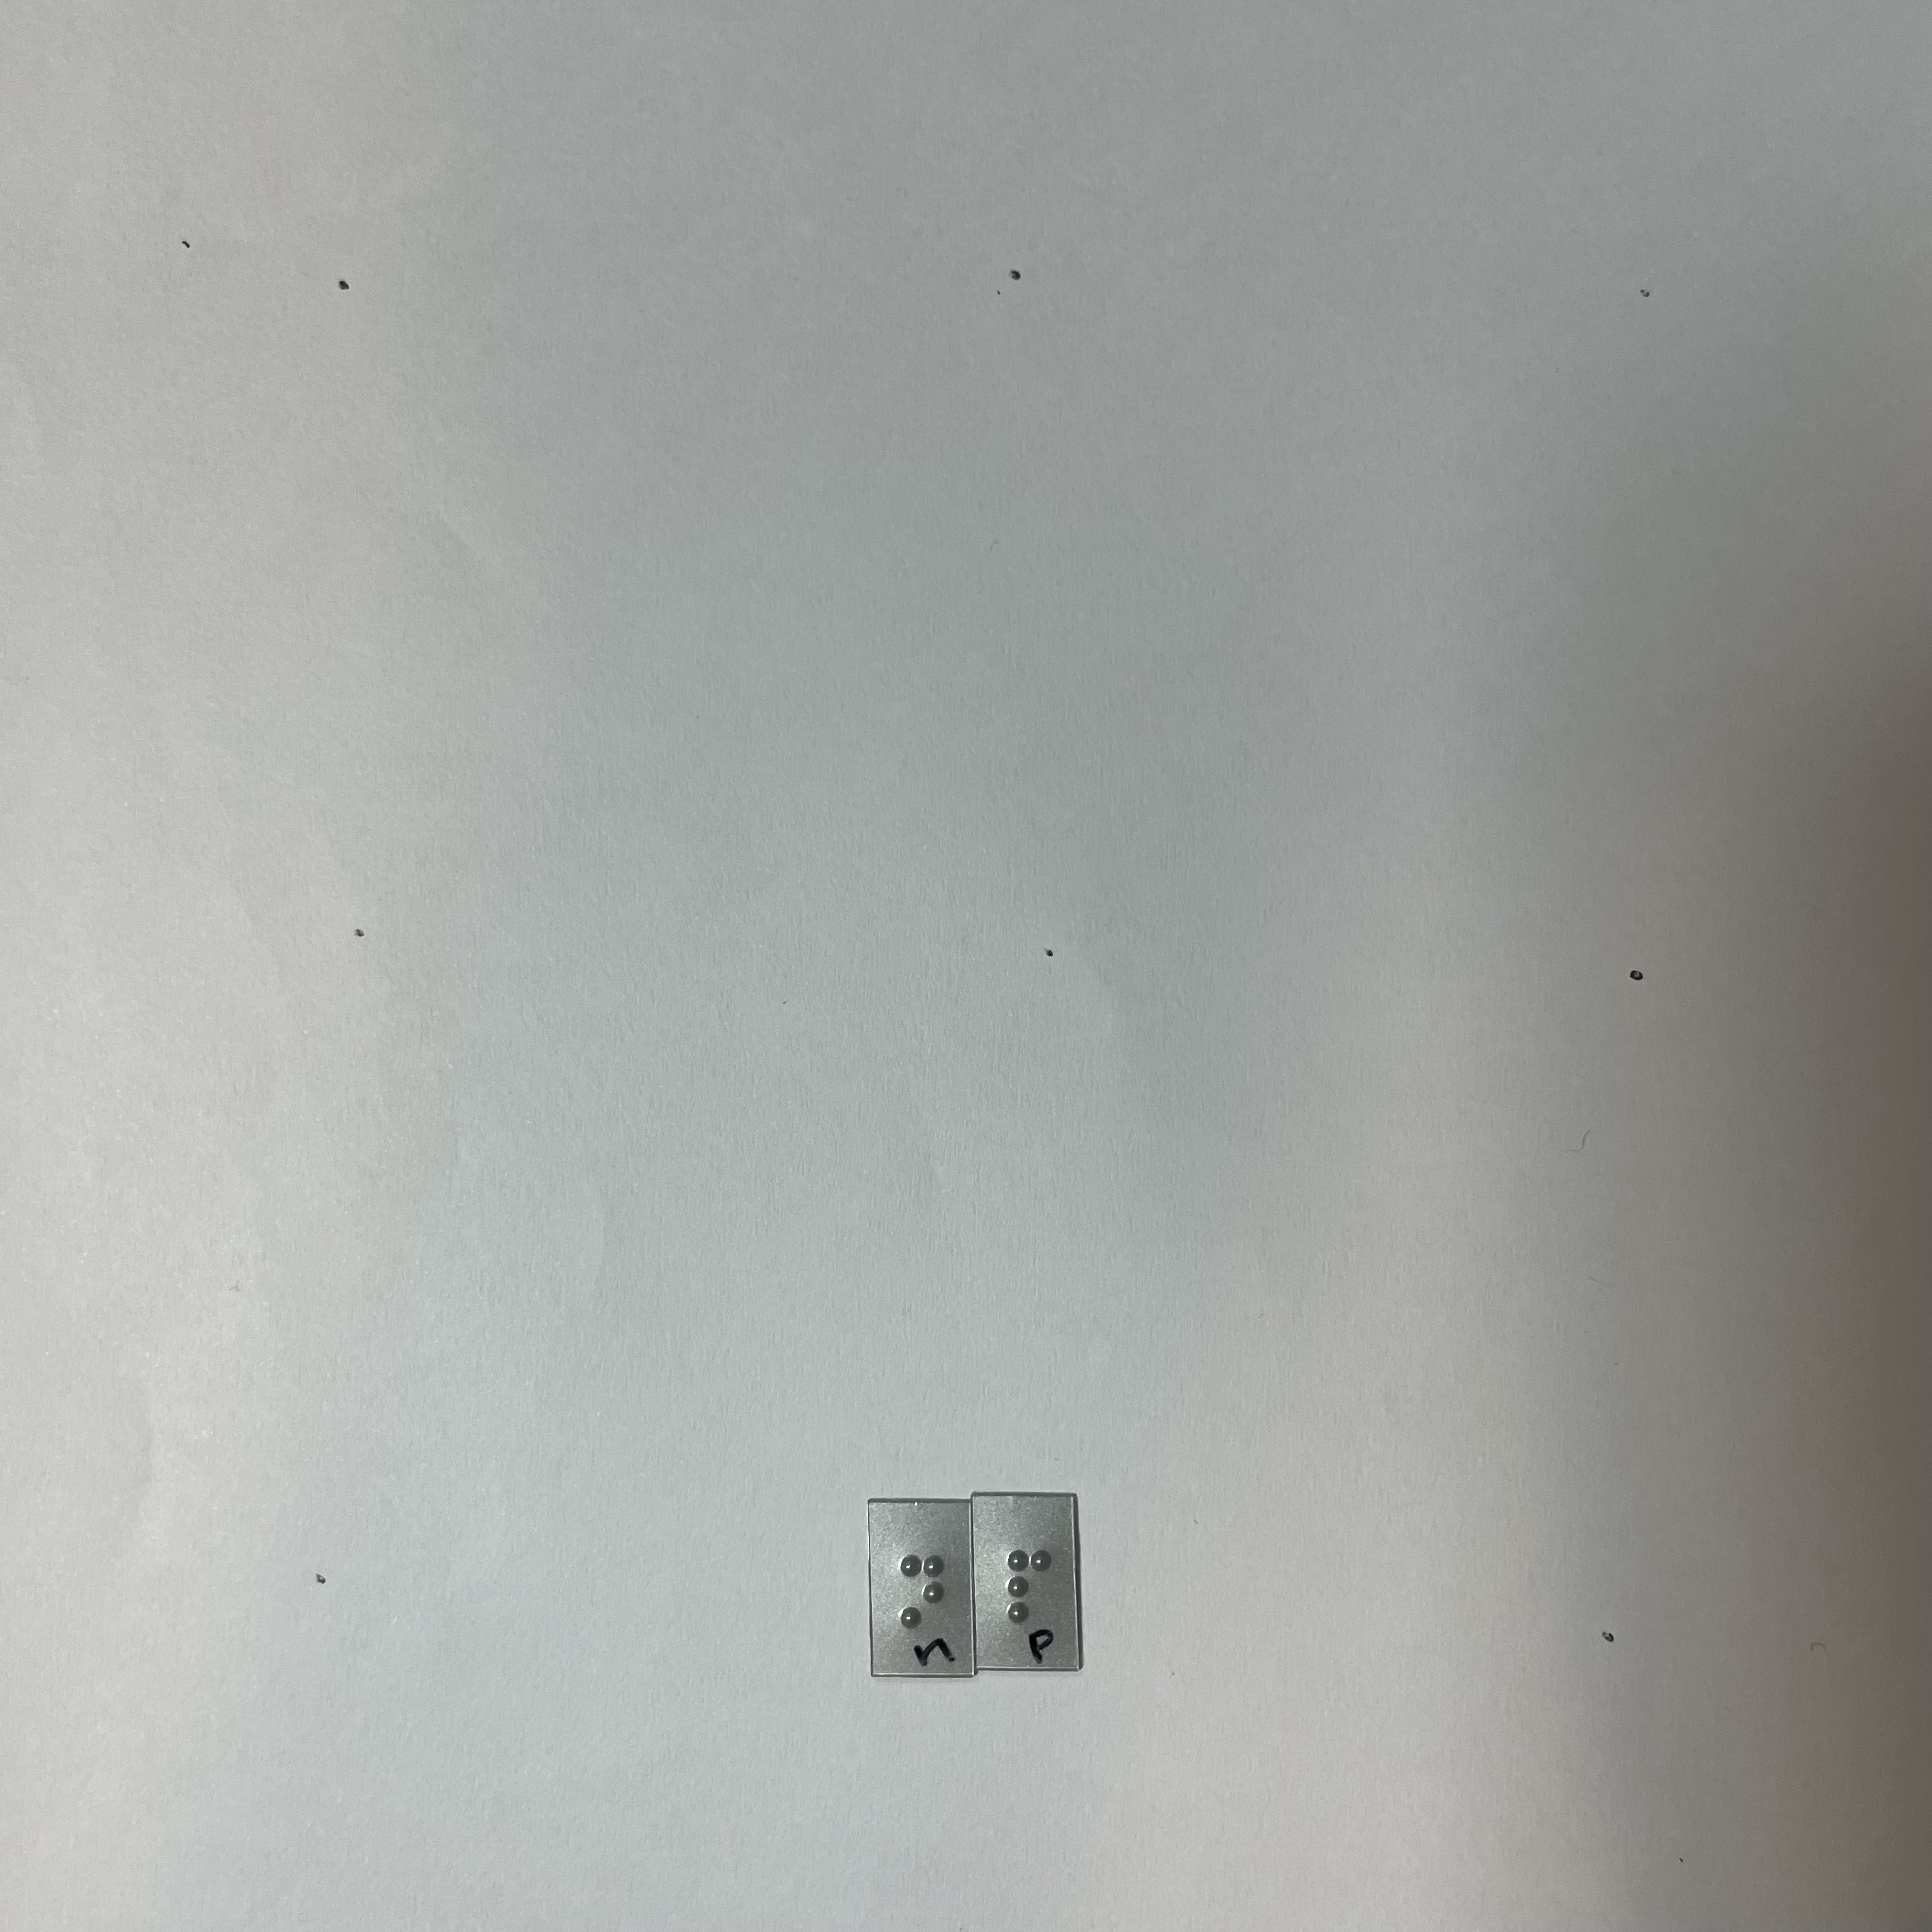n: (888, 1549, 952, 1634)
p: (1000, 1540, 1054, 1621)
